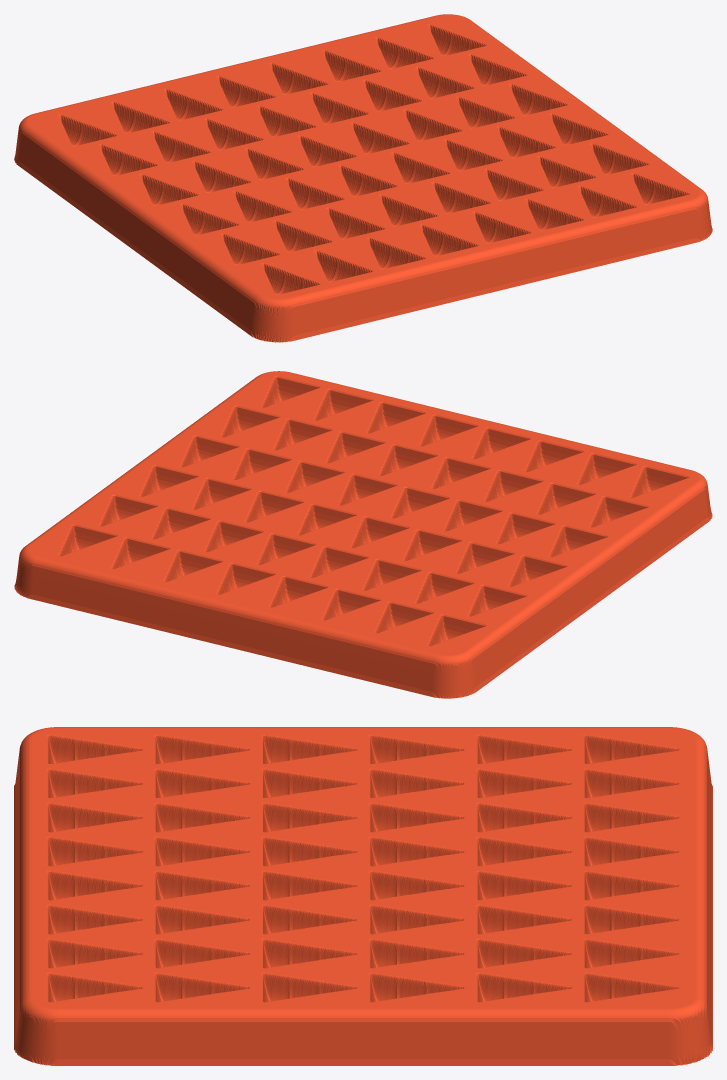
Rendered from mold.glb.
3 renders of one model, top to bottom at view 1: azimuth 30°, elevation 25°; view 2: azimuth 150°, elevation 25°; view 3: azimuth 270°, elevation 25°, orthographic. The views are drawn at different scales.
Parts seen in each view (by area): view 1: geometry_0; view 2: geometry_0; view 3: geometry_0.
Part boxes in pixels (box(x1,y1,x2,y2)): geometry_0: box(14, 14, 712, 342); geometry_0: box(14, 371, 712, 698); geometry_0: box(14, 727, 712, 1065).
Bounding box in the file's own units: 0.1443 × 0.0114 × 0.1443.
